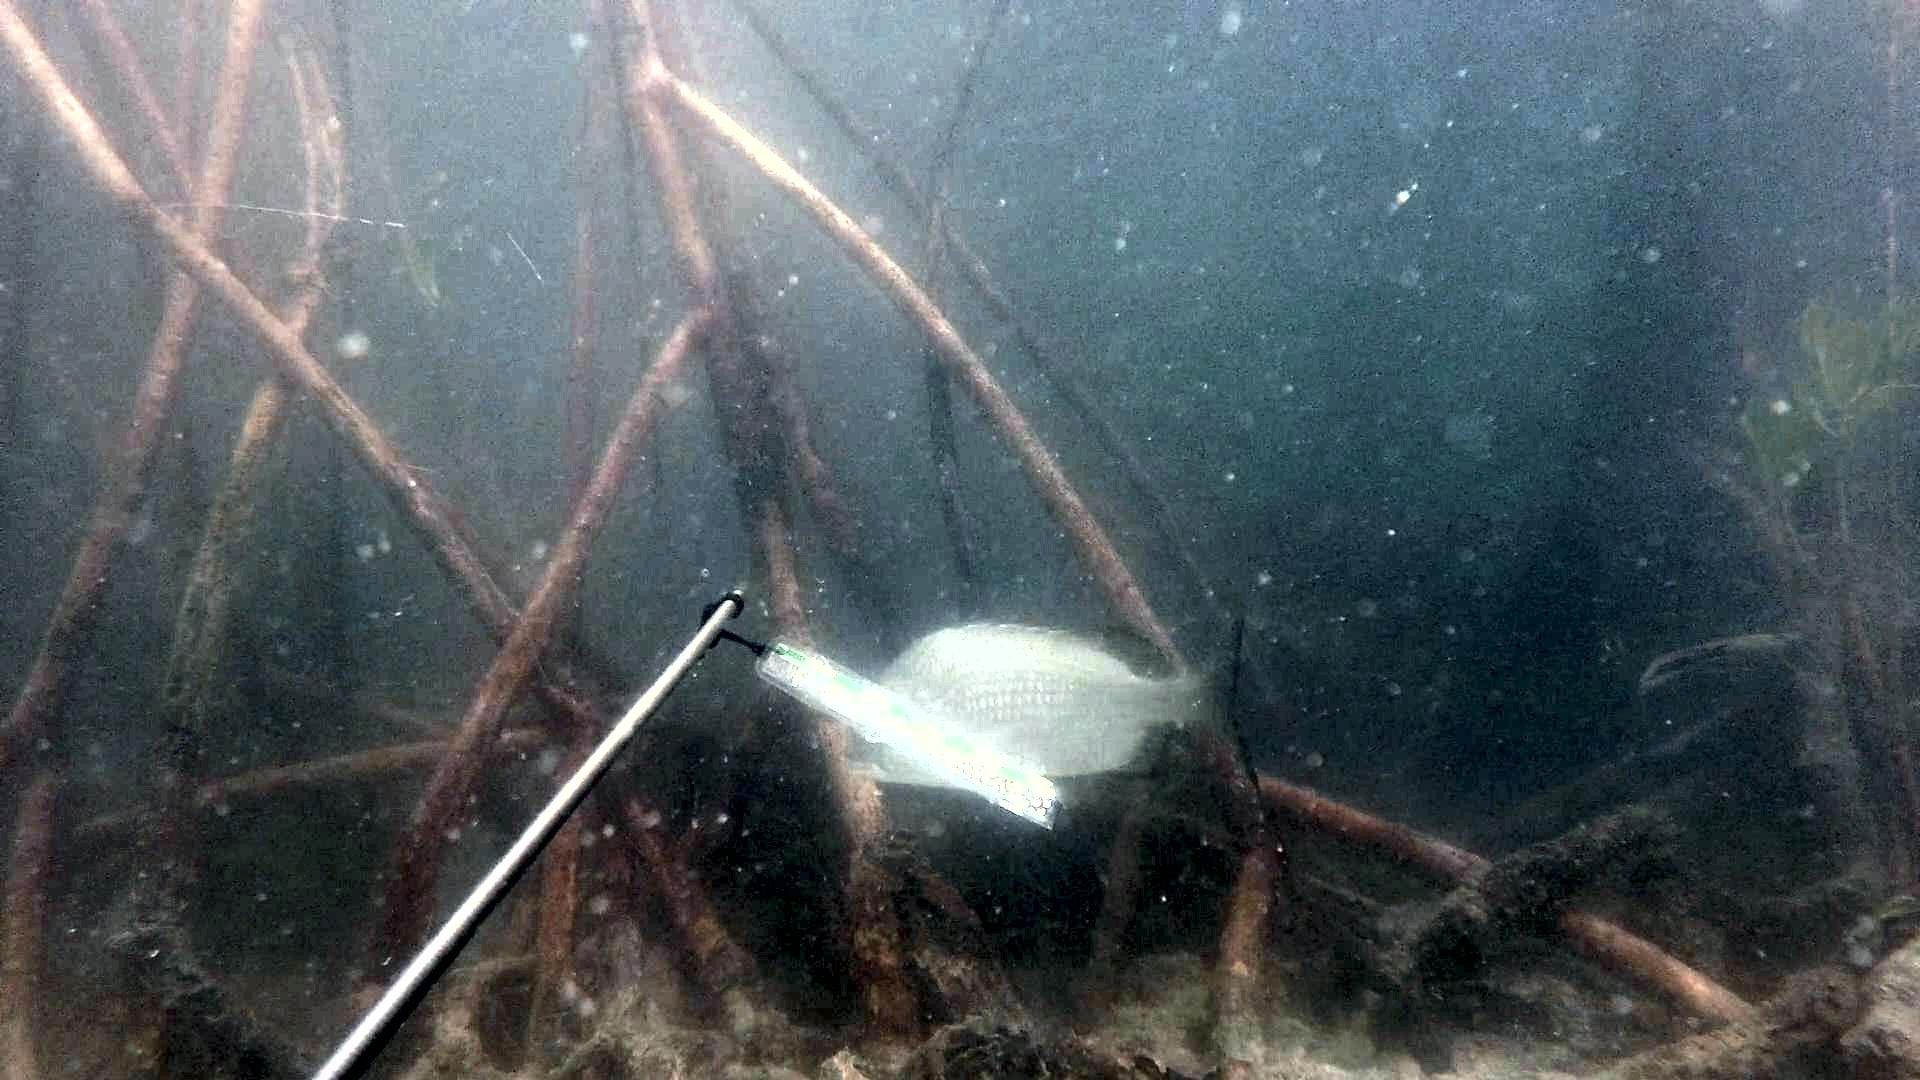acanthopagrus palmaris: (833, 601, 1275, 844)
